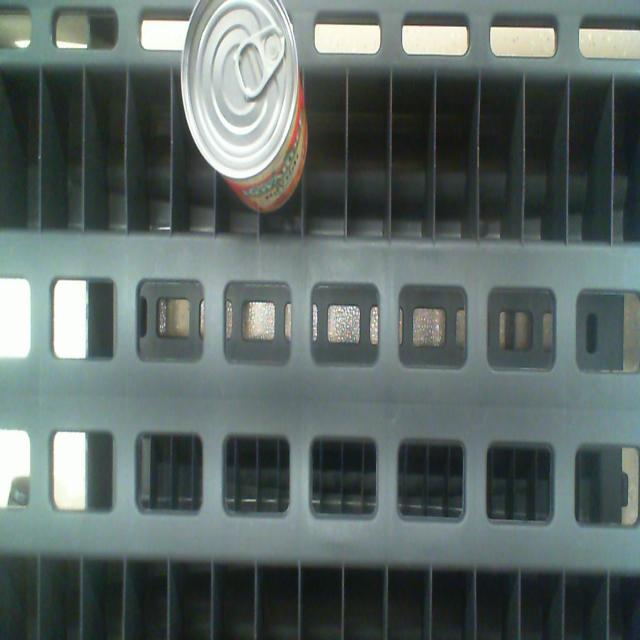can: (182, 1, 299, 179)
